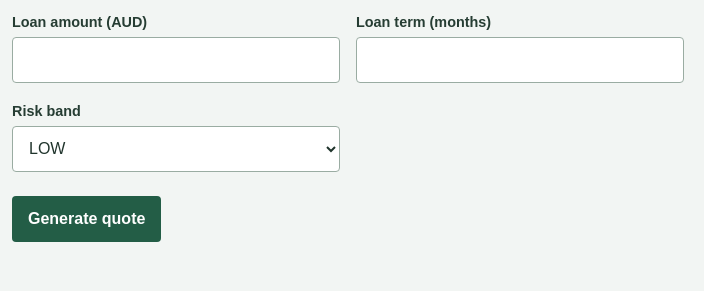
Test: LoanQuoteForm › rejects invalid loan amount 0
In the number field labelled "Loan amount (AUD)": point(176, 60) [12,37,340,83], type "0"
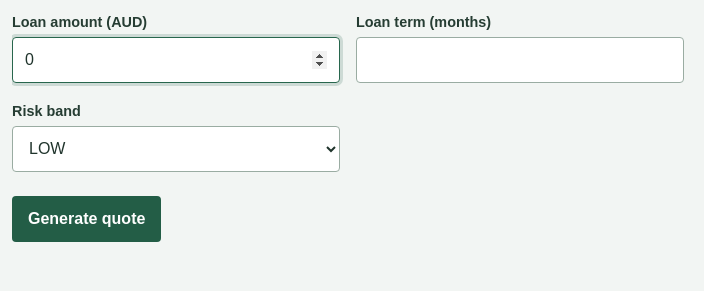
In the number field labelled "Loan term (months)": point(520, 60) [356,37,684,83], type "12"
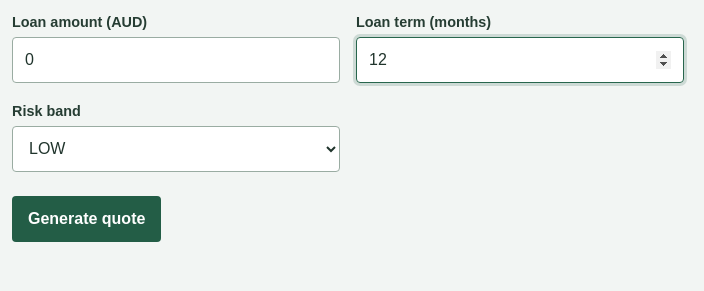
Click the button "Generate quote": point(87, 219) [12,196,161,242]
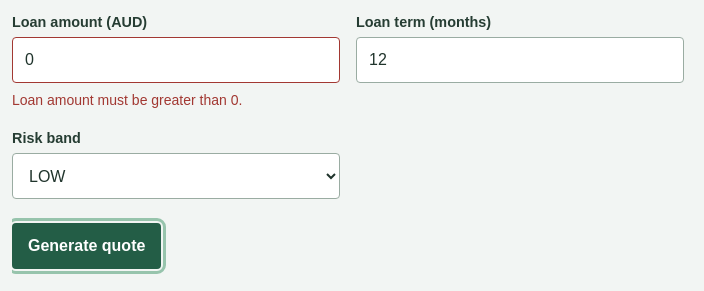
expect the text "Loan amount must be greater than 0." is shown: met, box [12,92,242,108]
